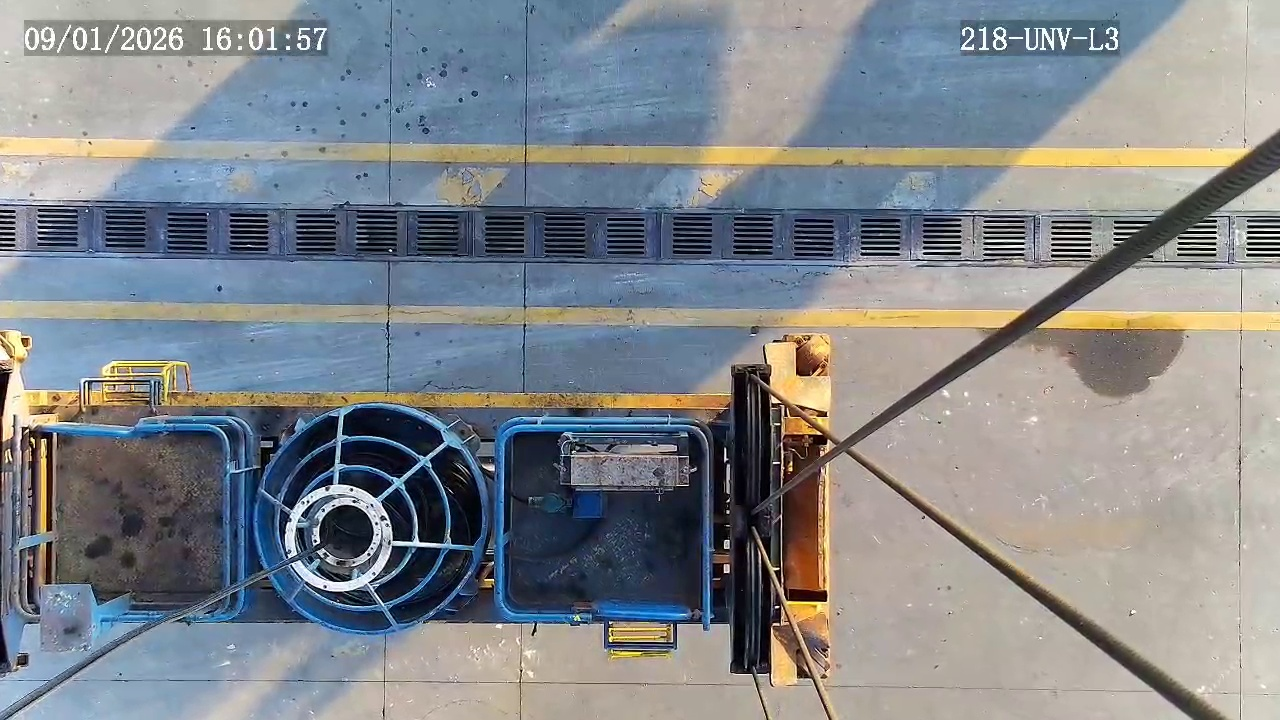right: (253, 402, 488, 633)
